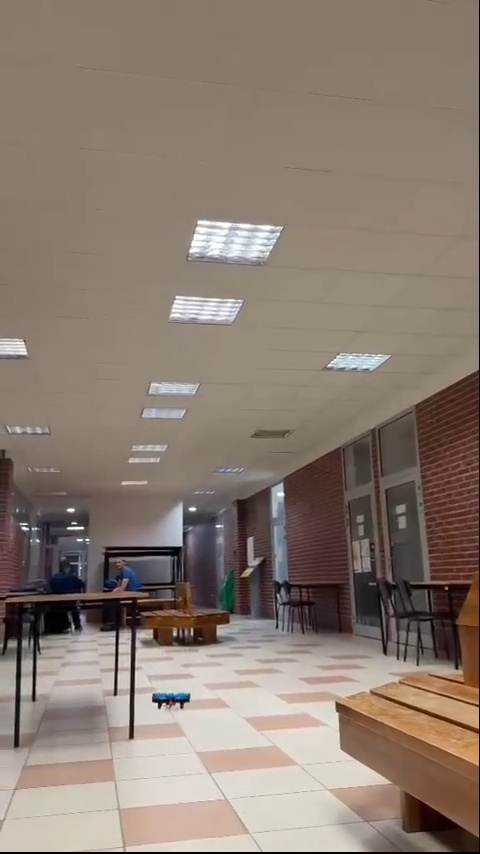drone: (152, 691, 194, 710)
no vest: (44, 557, 80, 631), (105, 550, 140, 605)
